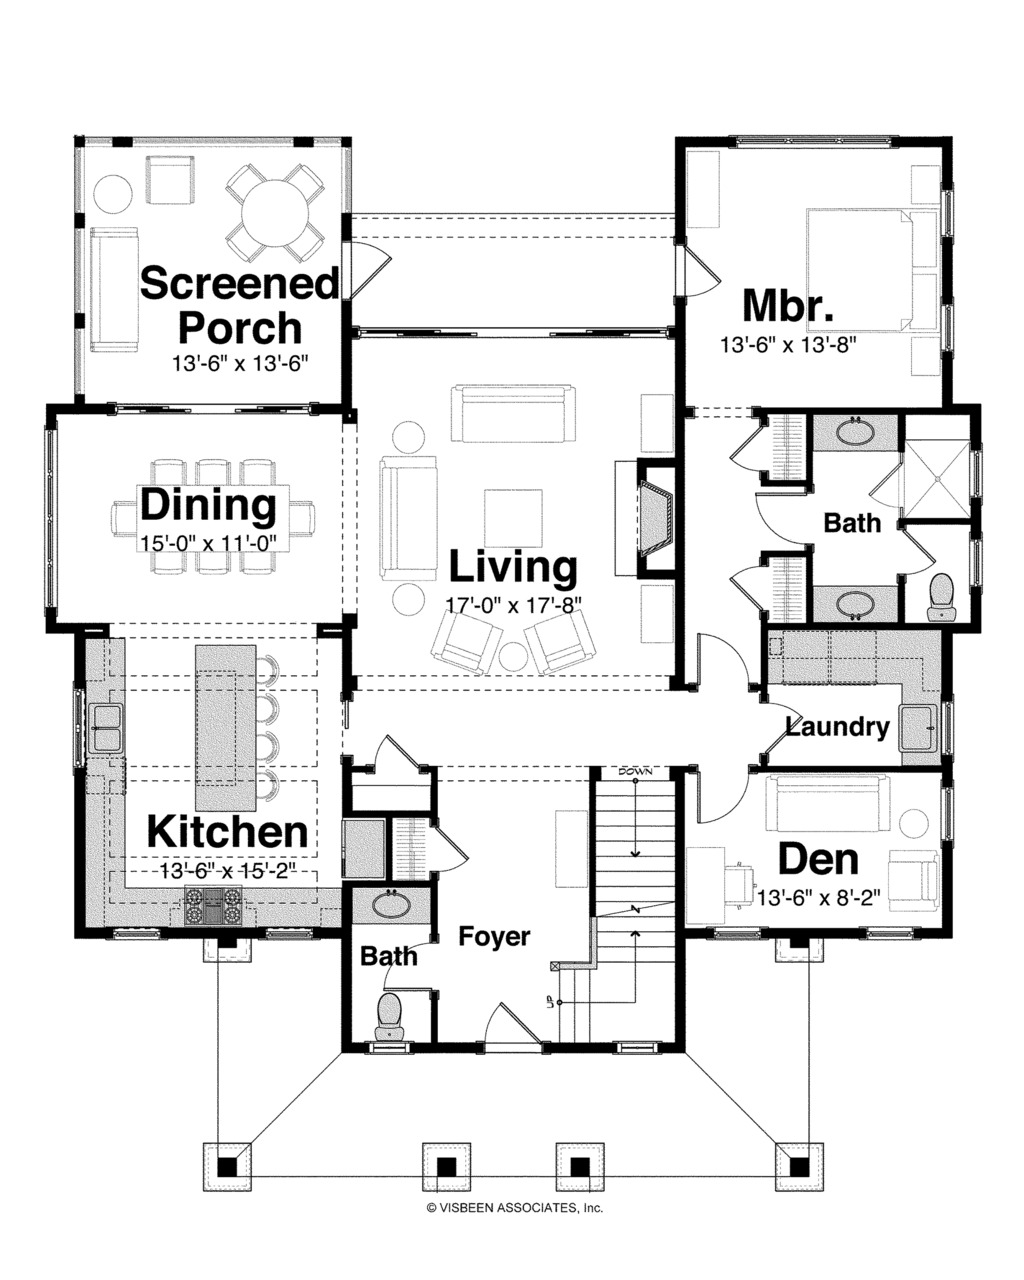bed: (785, 201, 942, 343)
dining_table: (95, 451, 319, 597)
door: (681, 613, 763, 693), (467, 997, 571, 1047), (751, 481, 825, 549), (669, 237, 727, 303), (338, 241, 395, 301), (697, 769, 753, 827), (725, 561, 777, 615), (755, 699, 802, 755), (863, 453, 905, 511), (893, 525, 942, 573), (433, 827, 475, 881), (729, 415, 765, 467), (367, 735, 423, 765)
kitchen_bar: (183, 639, 307, 839)
large_sink: (373, 983, 415, 1058), (923, 557, 967, 627)
large_sofa: (441, 375, 587, 455), (82, 217, 147, 357), (763, 773, 899, 839), (383, 447, 441, 591)
round_table: (209, 159, 335, 273)
sink: (885, 693, 949, 763)
small_sink: (359, 881, 439, 927), (817, 577, 897, 619), (811, 415, 891, 451)
small_sofa: (523, 603, 613, 681), (435, 597, 509, 673), (141, 149, 203, 222), (881, 850, 945, 917)
stairs: (557, 759, 681, 1049)
twin_sink: (73, 695, 129, 765)
window: (729, 133, 899, 152), (963, 451, 993, 519), (109, 921, 177, 945), (965, 533, 993, 585)
